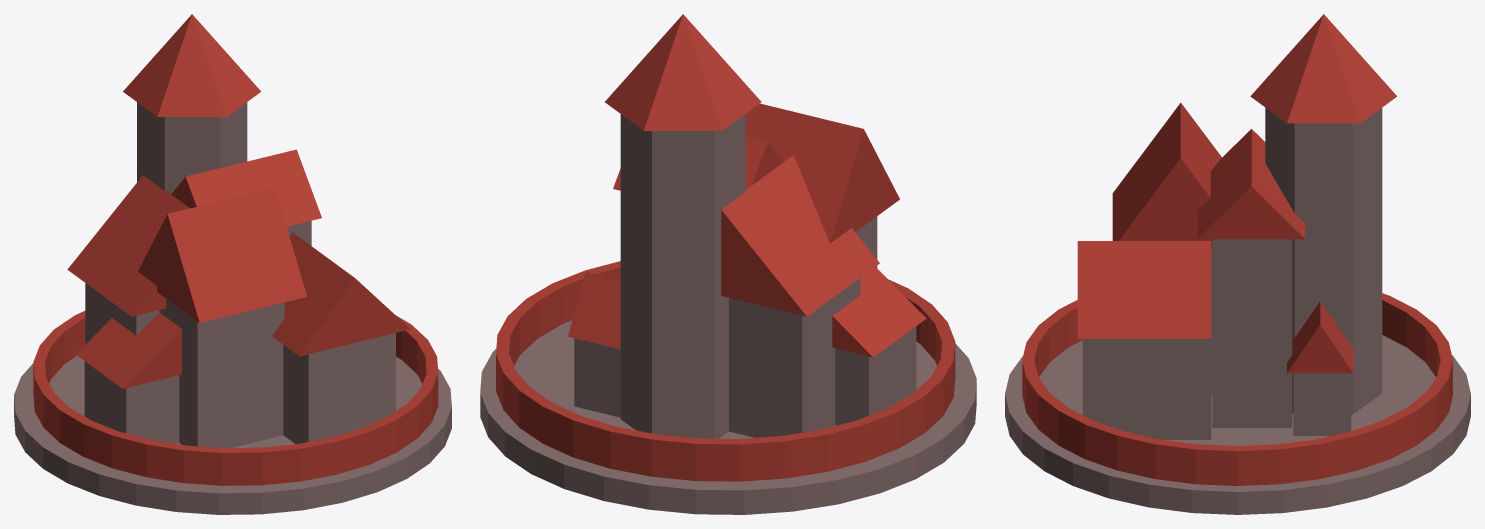
Rendered from redCity.fbx.
The picture shows the model from 3 angles, left to right: view 1: azimuth 30°, elevation 25°; view 2: azimuth 150°, elevation 25°; view 3: azimuth 270°, elevation 25°; orthographic projection. The views are drawn at different scales.
Parts seen in each view (by area): view 1: Cylinder.414; view 2: Cylinder.414; view 3: Cylinder.414.
Boxes of the visible parts, x1,y1,x2,y2 form: Cylinder.414: [14, 14, 451, 514]; Cylinder.414: [480, 14, 976, 514]; Cylinder.414: [1005, 14, 1470, 514].
Bounding box in the file's own units: 0.4534 × 0.4534 × 0.432.
